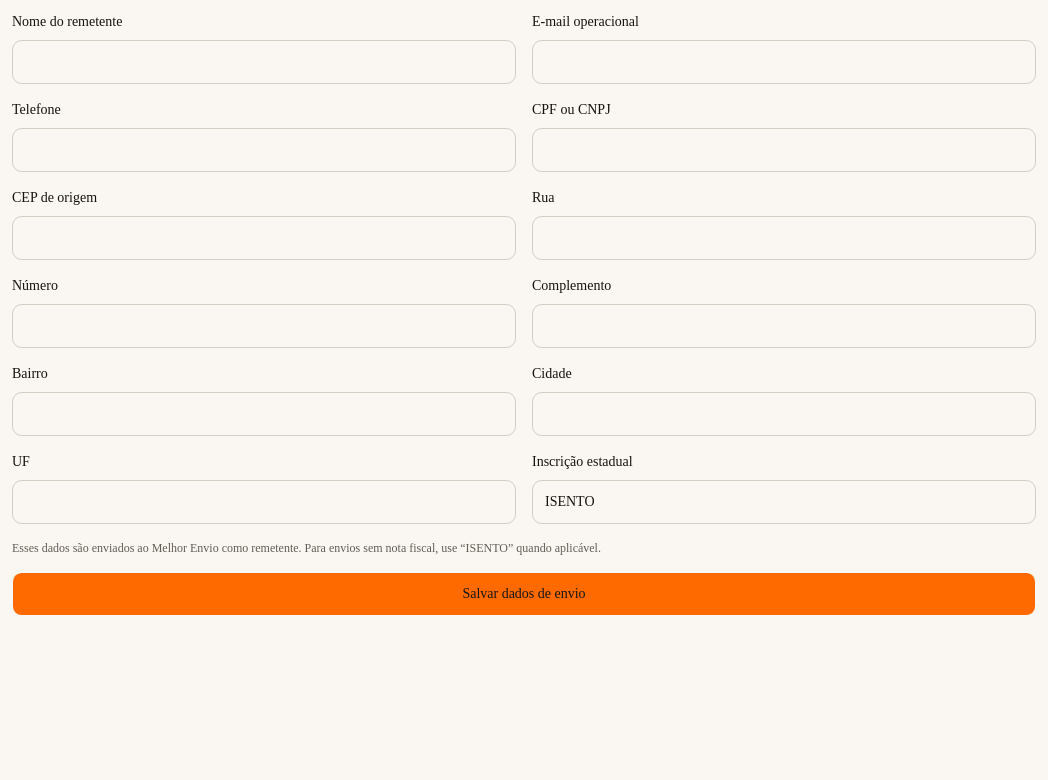
explains missing shipping data in Portuguese instead of the browser bubble (DN-03)
Click the button "Salvar dados de envio": (524, 594) [12,572,1036,616]
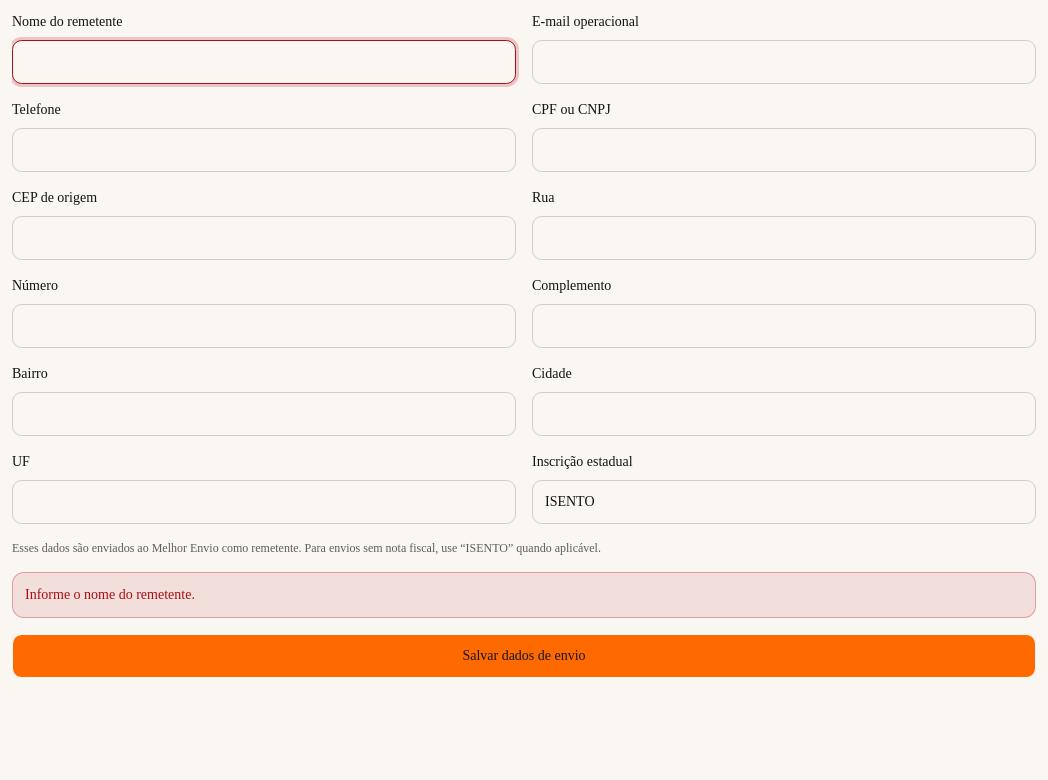
Check: the message reads "Informe o nome do remetente.", box [25,587,195,602]
